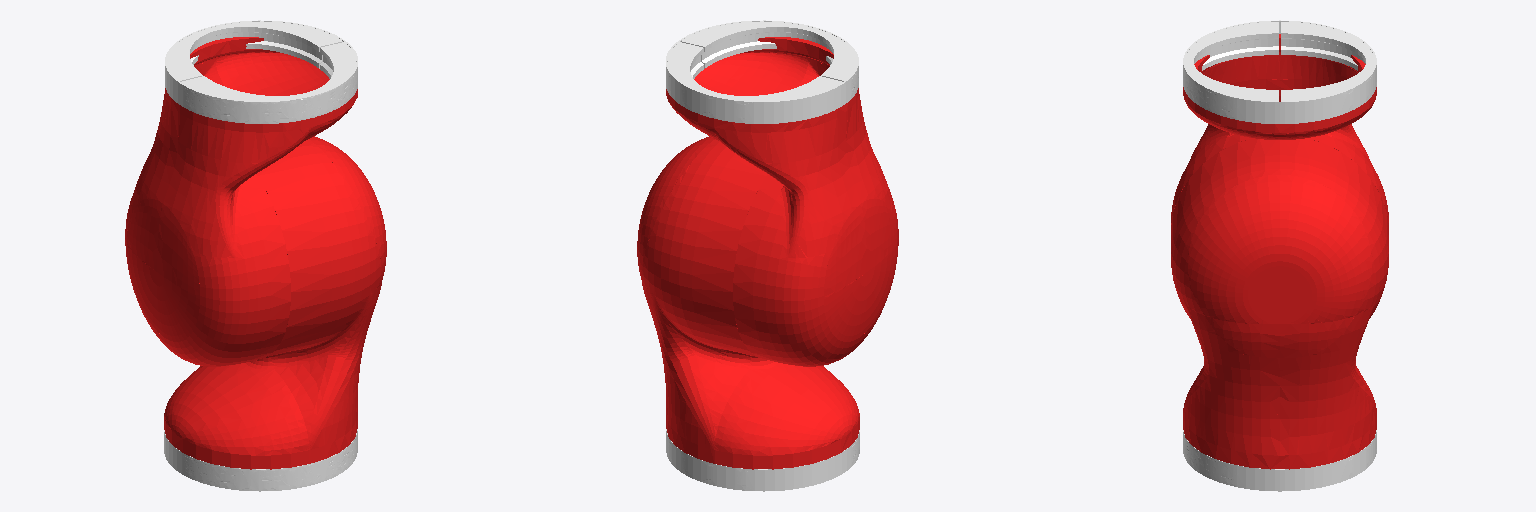
robot.urdf — T_module:
<?xml version="1.0" encoding="utf-8"?>
<!-- This URDF was automatically created by SolidWorks to URDF Exporter! Originally created by [author] ([email redacted]) 
     Commit Version: 1.5.1-0-g916b5db  Build Version: 1.5.7152.31018
     For more information, please see http://wiki.ros.org/sw_urdf_exporter -->
<robot
  name="T_module">
  <link
    name="VT_InLink_4th">
    <inertial>
      <origin
        xyz="-0.0062199 -4.712E-05 0.11151"
        rpy="0 0 0" />
      <mass
        value="0.5" />
      <inertia
        ixx="0.0043213"
        ixy="-5.1881E-07"
        ixz="0.00020387"
        iyy="0.0045007"
        iyz="4.834E-07"
        izz="0.0020727" />
    </inertial>
    <visual>
      <origin
        xyz="0 0 0"
        rpy="0 0 0" />
      <geometry>
        <mesh
          filename="package://T_module/meshes/VT_InLink_4th.STL" />
      </geometry>
      <material
        name="">
        <color
          rgba="1 1 1 1" />
      </material>
    </visual>
    <collision>
      <origin
        xyz="0 0 0"
        rpy="0 0 0" />
      <geometry>
        <mesh
          filename="package://T_module/meshes/VT_InLink_4th.STL" />
      </geometry>
    </collision>
  </link>
  <link
    name="T_InLink_4th">
    <inertial>
      <origin
        xyz="0.014606 -0.023405 6.7266E-05"
        rpy="0 0 0" />
      <mass
        value="1.2" />
      <inertia
        ixx="0.0016912"
        ixy="-8.2481E-05"
        ixz="-1.3704E-06"
        iyy="0.00075608"
        iyz="-5.6454E-07"
        izz="0.0014025" />
    </inertial>
    <visual>
      <origin
        xyz="0 0 0"
        rpy="0 0 0" />
      <geometry>
        <mesh
          filename="package://T_module/meshes/T_InLink_4th.STL" />
      </geometry>
      <material
        name="">
        <color
          rgba="1 0.16863 0.16863 1" />
      </material>
    </visual>
    <collision>
      <origin
        xyz="0 0 0"
        rpy="0 0 0" />
      <geometry>
        <mesh
          filename="package://T_module/meshes/T_InLink_4th.STL" />
      </geometry>
    </collision>
  </link>
  <joint
    name="V_InJoint"
    type="fixed">
    <origin
      xyz="0 0 0.1105"
      rpy="1.5708 0 0" />
    <parent
      link="VT_InLink_4th" />
    <child
      link="T_InLink_4th" />
    <axis
      xyz="0 0 0" />
  </joint>
  <link
    name="T_OutLink_4th">
    <inertial>
      <origin
        xyz="-0.017304 0.030846 2.9874E-05"
        rpy="0 0 0" />
      <mass
        value="1" />
      <inertia
        ixx="0.0012074"
        ixy="-0.00030836"
        ixz="-2.8266E-07"
        iyy="0.00068337"
        iyz="-3.7727E-07"
        izz="0.0011522" />
    </inertial>
    <visual>
      <origin
        xyz="0 0 0"
        rpy="0 0 0" />
      <geometry>
        <mesh
          filename="package://T_module/meshes/T_OutLink_4th.STL" />
      </geometry>
      <material
        name="">
        <color
          rgba="1 0.16863 0.16863 1" />
      </material>
    </visual>
    <collision>
      <origin
        xyz="0 0 0"
        rpy="0 0 0" />
      <geometry>
        <mesh
          filename="package://T_module/meshes/T_OutLink_4th.STL" />
      </geometry>
    </collision>
  </link>
  <joint
    name="T_Joint"
    type="revolute">
    <origin
      xyz="-0.0145 0 0"
      rpy="0 0 0" />
    <parent
      link="T_InLink_4th" />
    <child
      link="T_OutLink_4th" />
    <axis
      xyz="-1 0 0" />
    <limit
      lower="-2.07"
      upper="2.07"
      effort="0"
      velocity="0" />
  </joint>
  <link
    name="VT_OutLink_4th">
    <inertial>
      <origin
        xyz="-0.0067199 -4.712E-05 -0.097693"
        rpy="0 0 0" />
      <mass
        value="0.5" />
      <inertia
        ixx="0.0043213"
        ixy="-5.1881E-07"
        ixz="0.00020387"
        iyy="0.0045007"
        iyz="4.834E-07"
        izz="0.0020727" />
    </inertial>
    <visual>
      <origin
        xyz="0 0 0"
        rpy="0 0 0" />
      <geometry>
        <mesh
          filename="package://T_module/meshes/VT_OutLink_4th.STL" />
      </geometry>
      <material
        name="">
        <color
          rgba="1 1 1 1" />
      </material>
    </visual>
    <collision>
      <origin
        xyz="0 0 0"
        rpy="0 0 0" />
      <geometry>
        <mesh
          filename="package://T_module/meshes/VT_OutLink_4th.STL" />
      </geometry>
    </collision>
  </link>
  <joint
    name="V_OutJoint"
    type="fixed">
    <origin
      xyz="0.015 0.0987 0"
      rpy="-1.5708 0 0" />
    <parent
      link="T_OutLink_4th" />
    <child
      link="VT_OutLink_4th" />
    <axis
      xyz="0 0 0" />
  </joint>
</robot>

--- What the picture shows (computed from the rendered views, not written in the file) ---
3 views of the same robot in one strip: view 1: azimuth 30°, elevation 25°; view 2: azimuth 150°, elevation 25°; view 3: azimuth 270°, elevation 25° (orthographic).
Model T_module with 4 links and 3 joints (1 revolute, 2 fixed), rooted at VT_InLink_4th, posed every joint at zero.
Visible links, largest first — view 1: T_OutLink_4th, T_InLink_4th, VT_OutLink_4th, VT_InLink_4th; view 2: T_OutLink_4th, T_InLink_4th, VT_OutLink_4th, VT_InLink_4th; view 3: T_InLink_4th, VT_OutLink_4th, T_OutLink_4th, VT_InLink_4th.
Link boxes in pixels (left/top/right/bottom): T_OutLink_4th: left=125, top=37, right=357, bottom=366; T_InLink_4th: left=164, top=136, right=386, bottom=469; VT_OutLink_4th: left=165, top=20, right=357, bottom=123; VT_InLink_4th: left=164, top=429, right=357, bottom=491; T_OutLink_4th: left=666, top=37, right=898, bottom=366; T_InLink_4th: left=637, top=136, right=859, bottom=469; VT_OutLink_4th: left=666, top=20, right=858, bottom=123; VT_InLink_4th: left=666, top=429, right=859, bottom=491; T_InLink_4th: left=1171, top=138, right=1388, bottom=469; VT_OutLink_4th: left=1183, top=20, right=1376, bottom=123; T_OutLink_4th: left=1171, top=34, right=1388, bottom=224; VT_InLink_4th: left=1183, top=430, right=1376, bottom=491.
Size in the robot's own frame: 0.1221 by 0.113 by 0.2218 metres.
4 mesh visuals loaded from 4 distinct referenced files (4 binary STL).